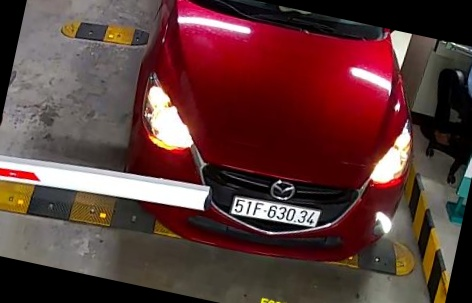plate: (223, 189, 332, 240)
